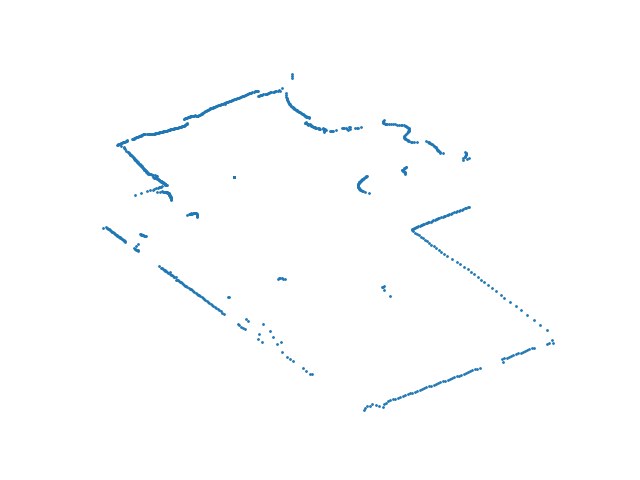person: (355, 166, 411, 195)
